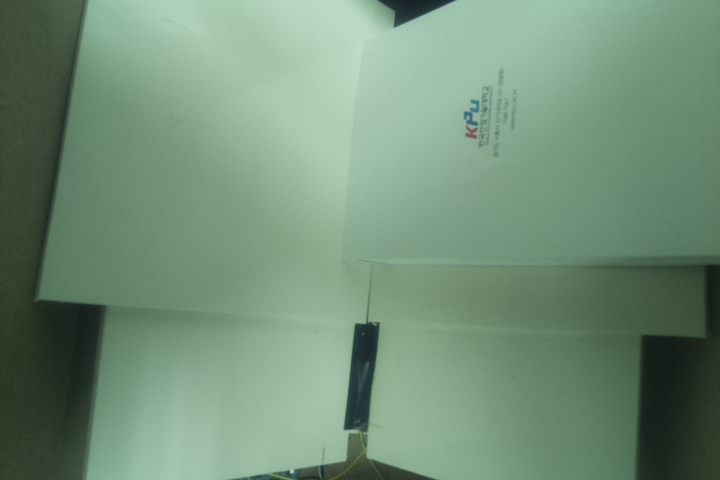book: (341, 1, 720, 269)
